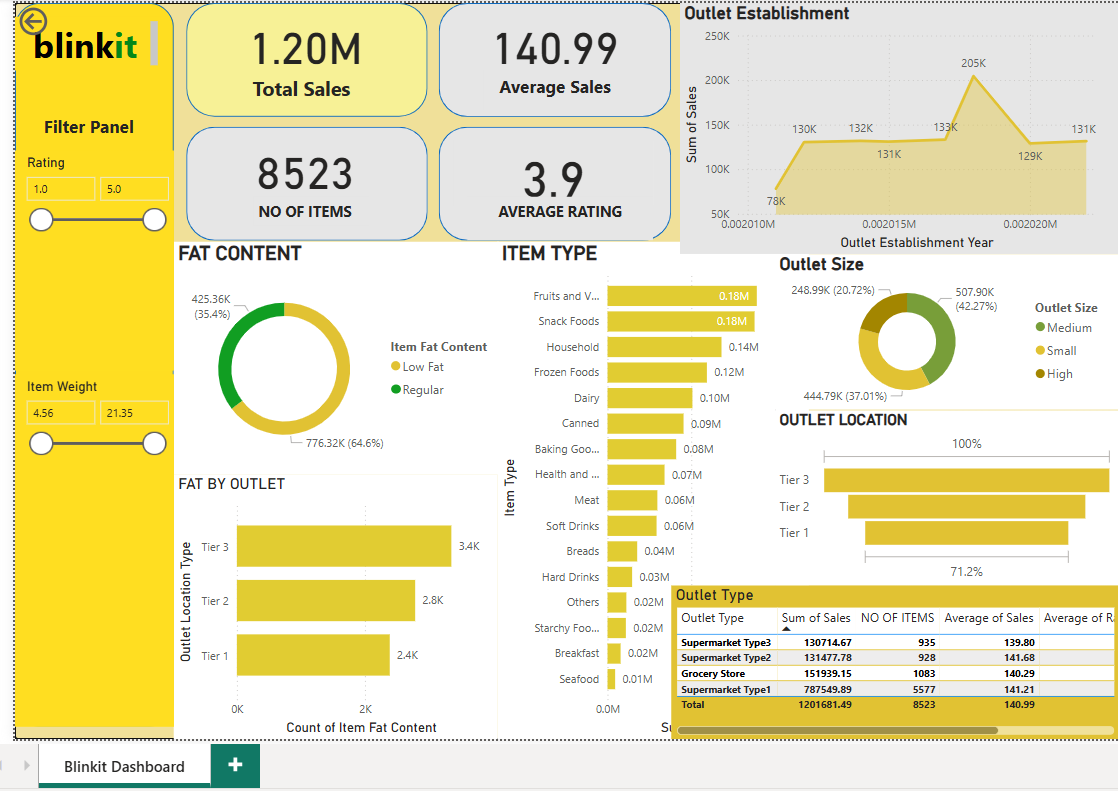

The dashboard page shown, as its layout file describes it:
{"tool":"powerbi","page":{"name":"Blinkit Dashboard","canvas":[1200,800],"ordinal":0},"visuals":[{"type":"shape","box":[186.1,0,262.2,123.6],"z":0},{"type":"shape","box":[460,135,252.5,123.8],"z":1000},{"type":"shape","box":[460,0,252.5,123.8],"z":2000},{"type":"shape","box":[186.2,135,262.5,123.8],"z":3000},{"type":"shape","box":[0,0,172.6,786.7],"z":4000},{"type":"textbox","box":[0,14.9,160.3,58.4],"z":5000},{"type":"card","fields":{"Values":["Sum(BlinkIT Grocery Data.Sales)"]},"box":[229.6,14.9,172.6,58.4],"z":6000},{"type":"textbox","box":[248.6,73.4,125,43.5],"z":7000},{"type":"donutChart","title":"FAT CONTENT","fields":{"Category":["BlinkIT Grocery Data.Item Fat Content"],"Y":["Sum(BlinkIT Grocery Data.Sales)"]},"box":[172.5,260,352.5,252.5],"z":8000},{"type":"barChart","title":"ITEM TYPE","fields":{"Category":["BlinkIT Grocery Data.Item Type"],"Y":["Sum(BlinkIT Grocery Data.Sales)"]},"box":[524.5,259.5,338.3,540.8],"z":9000},{"type":"card","fields":{"Values":["Avg(BlinkIT Grocery Data.Sales)"]},"box":[509.5,14.9,154.9,58.4],"z":10000},{"type":"textbox","box":[509.5,73.4,154.9,43.5],"z":11000},{"type":"barChart","title":"FAT BY OUTLET","fields":{"Category":["BlinkIT Grocery Data.Outlet Location Type"],"Y":["CountNonNull(BlinkIT Grocery Data.Item Fat Content)"]},"box":[172.6,512.2,351.9,288],"z":12000},{"type":"card","fields":{"Values":["Avg(BlinkIT Grocery Data.Rating)"]},"box":[476.9,149.5,217.4,70.7],"z":13000},{"type":"textbox","box":[492.5,211.2,201.2,47.5],"z":14000},{"type":"card","fields":{"Values":["ALL MEASURES.NO OF ITEM"]},"box":[230,148.8,172.5,62.5],"z":15000},{"type":"textbox","box":[259.5,210.6,159,31.3],"z":16000},{"type":"areaChart","title":"Outlet Establishment","fields":{"Category":["BlinkIT Grocery Data.Outlet Establishment Year"],"Y":["Sum(BlinkIT Grocery Data.Sales)"]},"box":[722.8,0,476.9,273.1],"z":17000},{"type":"donutChart","title":"Outlet  Size","fields":{"Category":["BlinkIT Grocery Data.Outlet Size"],"Y":["Sum(BlinkIT Grocery Data.Sales)"]},"box":[826.1,273.1,373.6,168.5],"z":18000},{"type":"funnel","title":"OUTLET LOCATION","fields":{"Category":["BlinkIT Grocery Data.Outlet Location Type"],"Y":["Sum(BlinkIT Grocery Data.Outlet Establishment Year)"]},"box":[826.1,442.9,373.6,190.2],"z":19000},{"type":"tableEx","title":"Outlet Type","fields":{"Values":["BlinkIT Grocery Data.Outlet Type","Sum(BlinkIT Grocery Data.Sales)","ALL MEASURES.NO OF ITEMS","Avg(BlinkIT Grocery Data.Sales)","Avg(BlinkIT Grocery Data.Rating)","Sum(BlinkIT Grocery Data.Item Visibility)"]},"box":[713.3,633.2,486.4,167.1],"z":20000},{"type":"textbox","box":[0,116.8,160.3,48.9],"z":21000},{"type":"slicer","fields":{"Values":["BlinkIT Grocery Data.Rating"]},"box":[0,160.3,172.6,239.1],"z":22000},{"type":"actionButton","box":[0,0,100,40],"z":23000},{"type":"slicer","fields":{"Values":["BlinkIT Grocery Data.Item Weight"]},"box":[0,403.5,172.6,383.2],"z":24000}]}

Visuals, with their boxes on the page's 1200x800 design canvas (x1, y1, x2, y2). These are canvas units, not pixel positions in the 1118x791 screenshot, which may show the page scaled, cropped or inside an application window:
shape: [186,0,448,124]
shape: [460,135,712,259]
shape: [460,0,712,124]
shape: [186,135,449,259]
shape: [0,0,173,787]
textbox: [0,15,160,73]
card - Sum(BlinkIT Grocery Data.Sales): [230,15,402,73]
textbox: [249,73,374,117]
"FAT CONTENT" donutChart: [172,260,525,512]
"ITEM TYPE" barChart: [524,260,863,800]
card - Avg(BlinkIT Grocery Data.Sales): [510,15,664,73]
textbox: [510,73,664,117]
"FAT BY OUTLET" barChart: [173,512,524,800]
card - Avg(BlinkIT Grocery Data.Rating): [477,150,694,220]
textbox: [492,211,694,259]
card - ALL MEASURES.NO OF ITEM: [230,149,402,211]
textbox: [260,211,418,242]
"Outlet Establishment" areaChart: [723,0,1200,273]
"Outlet  Size" donutChart: [826,273,1200,442]
"OUTLET LOCATION" funnel: [826,443,1200,633]
"Outlet Type" tableEx: [713,633,1200,800]
textbox: [0,117,160,166]
slicer - BlinkIT Grocery Data.Rating: [0,160,173,399]
actionButton: [0,0,100,40]
slicer - BlinkIT Grocery Data.Item Weight: [0,404,173,787]
